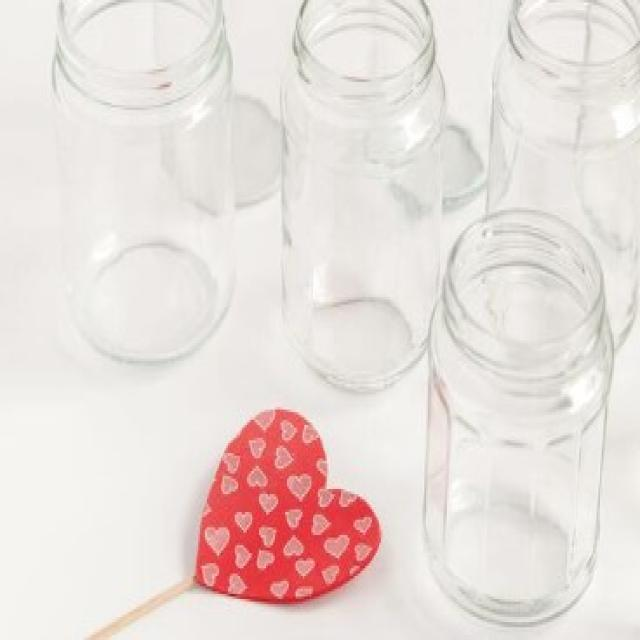electronic: (48, 0, 640, 632)
